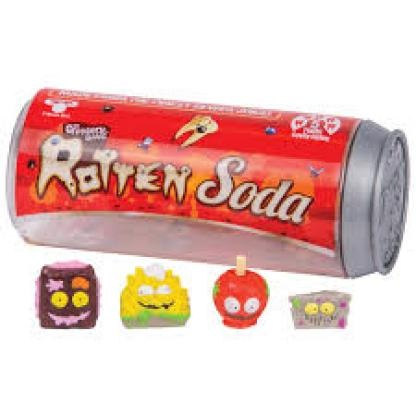trash: (7, 89, 407, 276)
